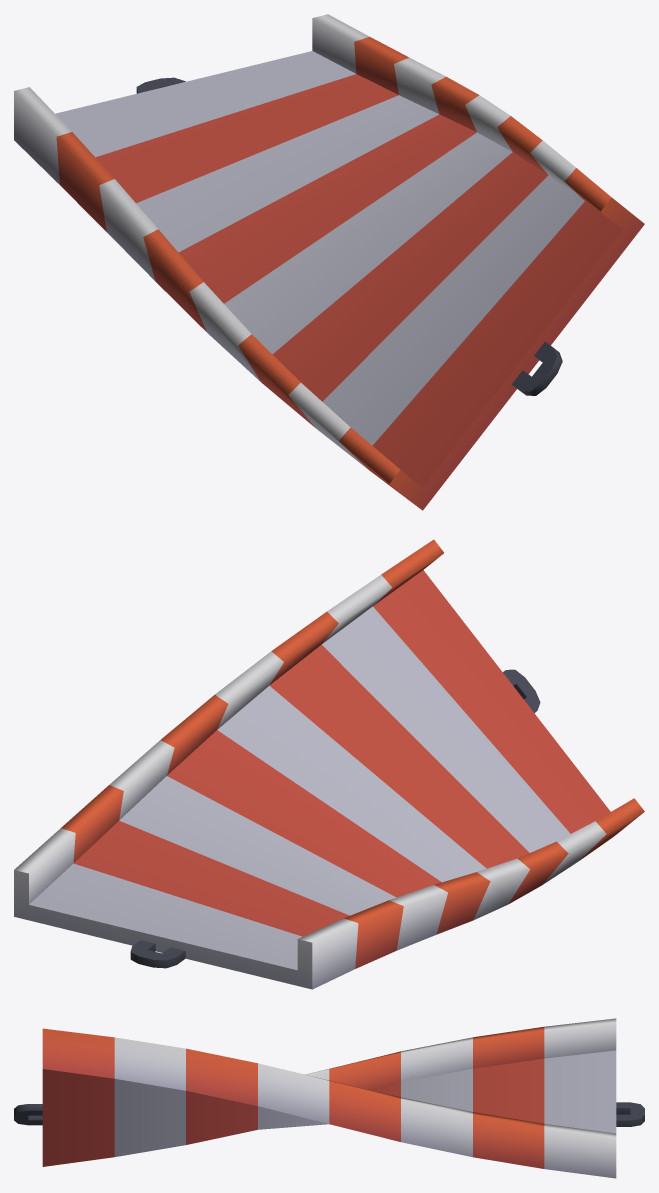
Rendered from track-striped-wide-straight-skew-right.glb.
The picture shows the model from 3 angles, top to bottom: view 1: azimuth 30°, elevation 25°; view 2: azimuth 150°, elevation 25°; view 3: azimuth 270°, elevation 25°; orthographic projection. The views are drawn at different scales.
Visible parts, largest first — view 1: track-striped-wide-straight-skew-right; view 2: track-striped-wide-straight-skew-right; view 3: track-striped-wide-straight-skew-right.
Part boxes in pixels (left/top/right/bottom): track-striped-wide-straight-skew-right: left=14, top=14, right=644, bottom=510; track-striped-wide-straight-skew-right: left=14, top=539, right=644, bottom=989; track-striped-wide-straight-skew-right: left=14, top=1018, right=644, bottom=1178.
Size of the model in its own units: 2.04 by 1.63 by 4.4.
